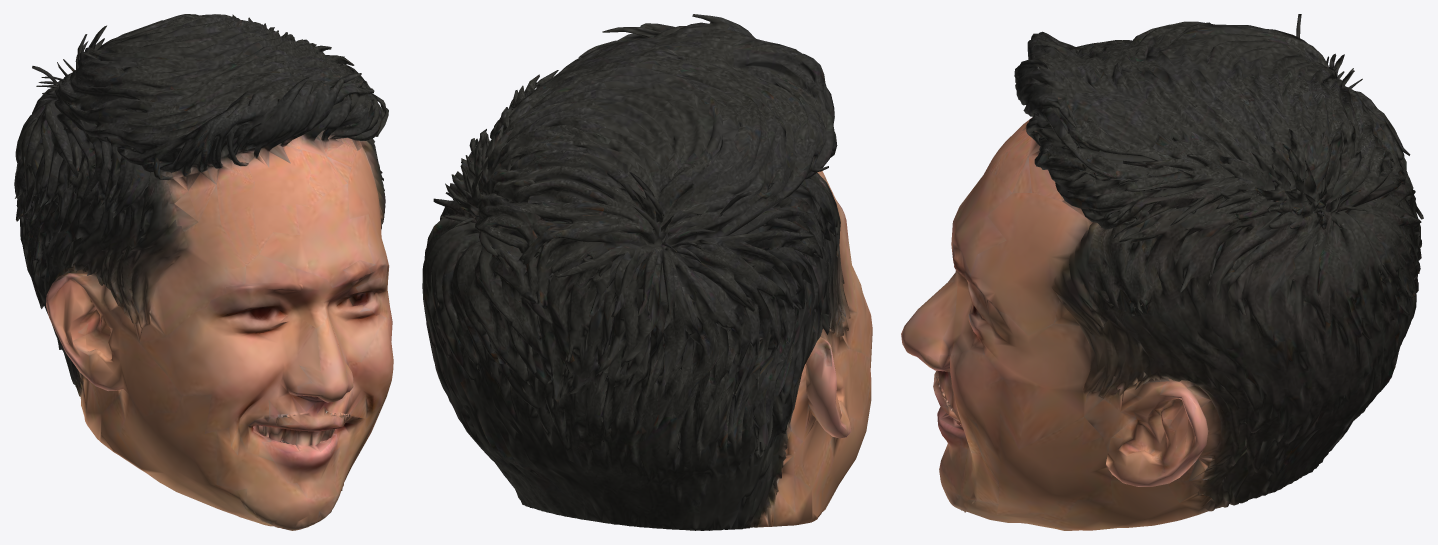
Rendered from head_josh.glb.
The picture shows the model from 3 angles, left to right: view 1: azimuth 30°, elevation 25°; view 2: azimuth 150°, elevation 25°; view 3: azimuth 270°, elevation 25°; orthographic projection. The views are drawn at different scales.
Visible parts, largest first — view 1: Mesh_0; view 2: Mesh_0; view 3: Mesh_0.
Boxes of the visible parts, x1,y1,x2,y2 form: Mesh_0: (14, 14, 393, 530); Mesh_0: (422, 14, 872, 530); Mesh_0: (901, 14, 1423, 530).
Bounding box in the file's own units: 0.7487 × 0.9242 × 0.9344.
1 material, 1 textured.
